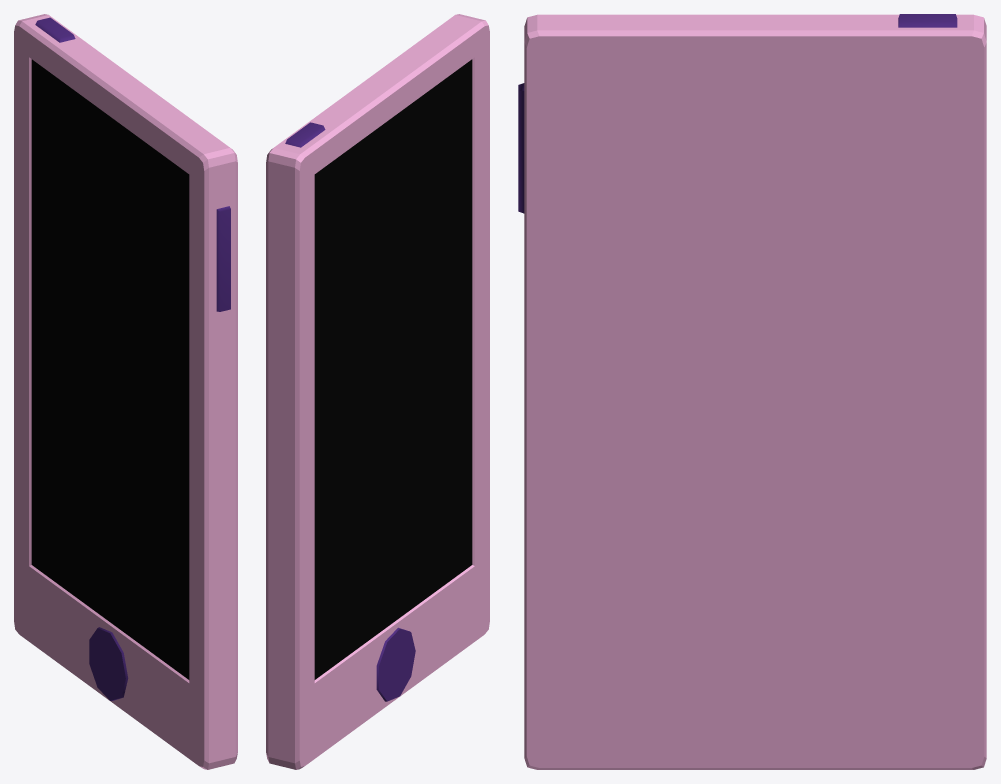
Rendered from SM_Phone.fbx.
3 renders of one model, left to right at view 1: azimuth 30°, elevation 25°; view 2: azimuth 150°, elevation 25°; view 3: azimuth 270°, elevation 25°, orthographic. The views are drawn at different scales.
Visible parts, largest first — view 1: SM_Phone; view 2: SM_Phone; view 3: SM_Phone.
Boxes of the visible parts, <box> form: SM_Phone: <box>14,14,237,769</box>; SM_Phone: <box>266,14,489,769</box>; SM_Phone: <box>518,14,986,769</box>.
Size of the model in its own units: 1.31 by 12.34 by 21.65.
Materials: 1 (1 with a texture image).
